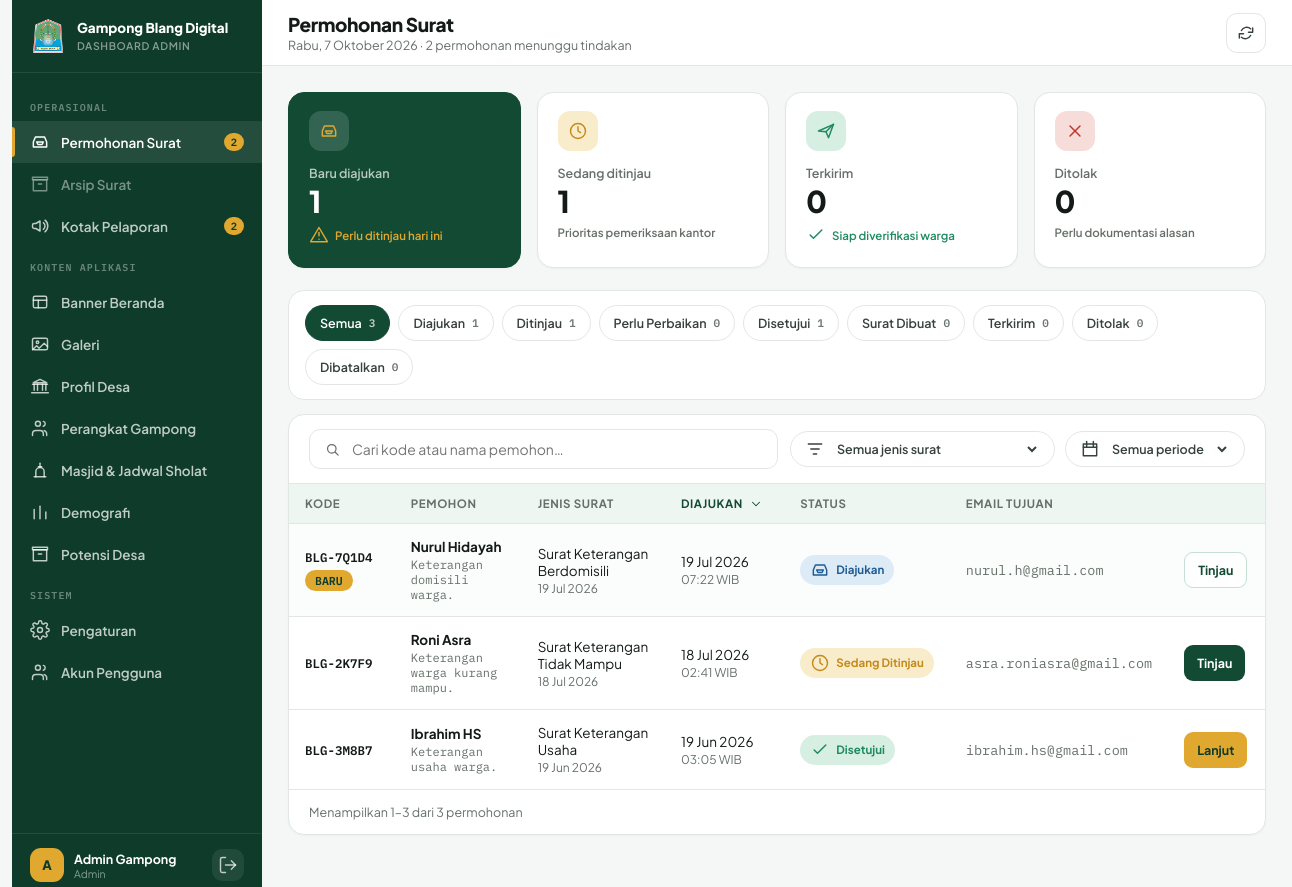
feedback inbox › links the sidebar entry to the inbox with the live unread badge
Check: the 2nd text "2" is shown, box x1=224 y1=217 x2=244 y2=235
What coordinates should you click on to do the following:
click the button "Kotak Pelaporan 2"
I would click on:
 (137, 226)
Its box is x1=12 y1=205 x2=262 y2=247.
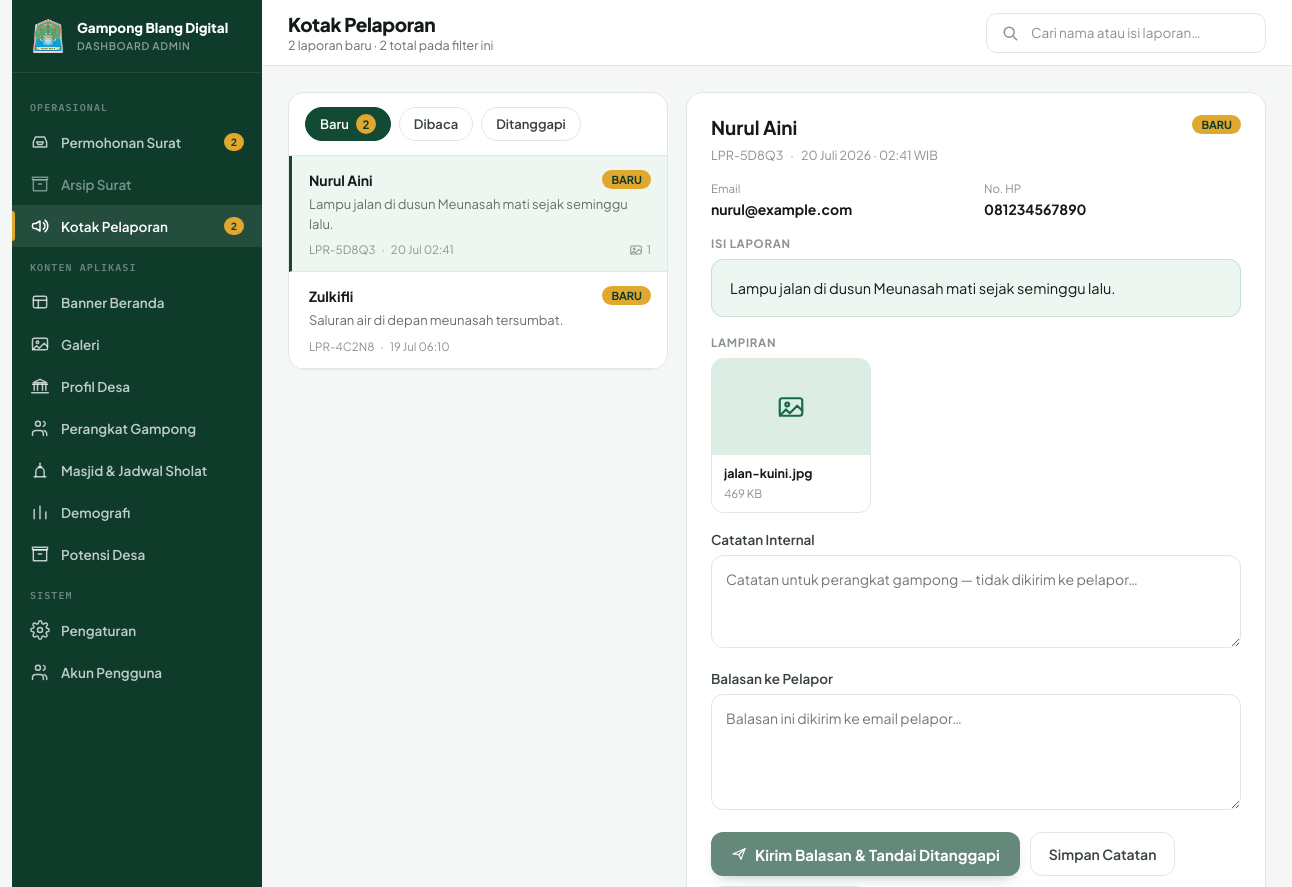
Check: the heading "Kotak Pelaporan" is shown, box x1=288 y1=12 x2=435 y2=36
